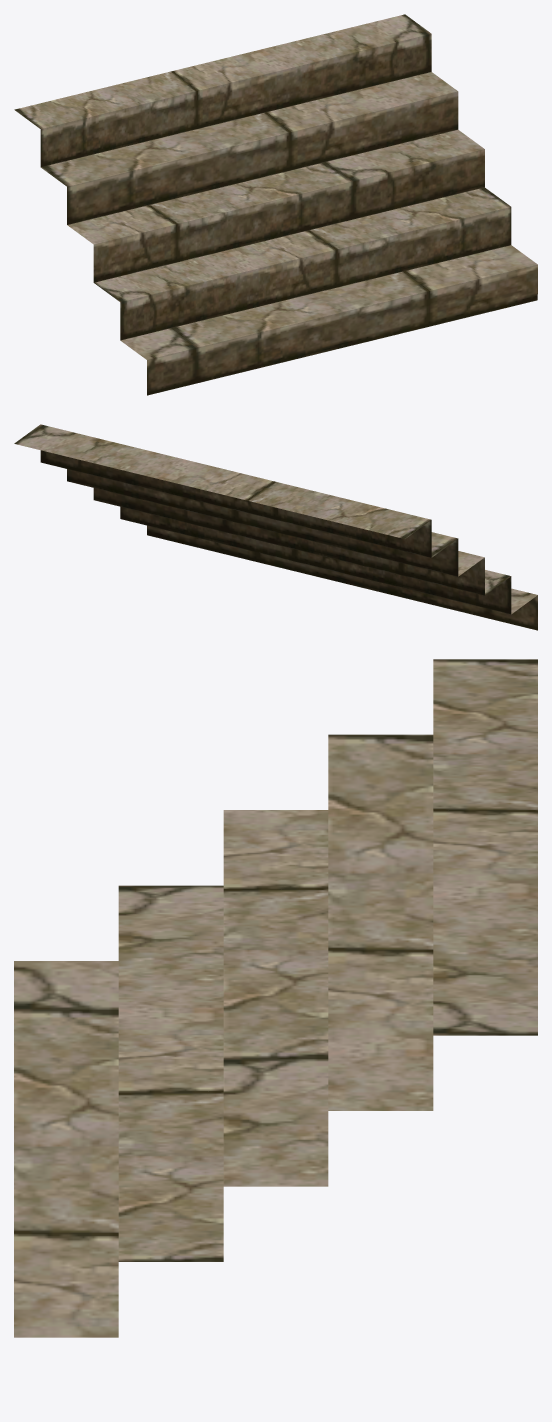
The model's file is OVERHILL_A_01_OBJECT76.fbx.
The picture shows the model from 3 angles, top to bottom: view 1: azimuth 30°, elevation 25°; view 2: azimuth 150°, elevation 25°; view 3: azimuth 270°, elevation 25°; orthographic projection. The views are drawn at different scales.
Parts seen in each view (by area): view 1: OVERHILL_A_01_OBJECT76; view 2: OVERHILL_A_01_OBJECT76; view 3: OVERHILL_A_01_OBJECT76.
Boxes of the visible parts, bbox=[...] form: OVERHILL_A_01_OBJECT76: bbox=[14, 14, 537, 395]; OVERHILL_A_01_OBJECT76: bbox=[14, 424, 537, 630]; OVERHILL_A_01_OBJECT76: bbox=[14, 659, 537, 1337].
Bounding box in the file's own units: 34001 × 15672 × 20000.
Materials: 1 (1 with a texture image).
